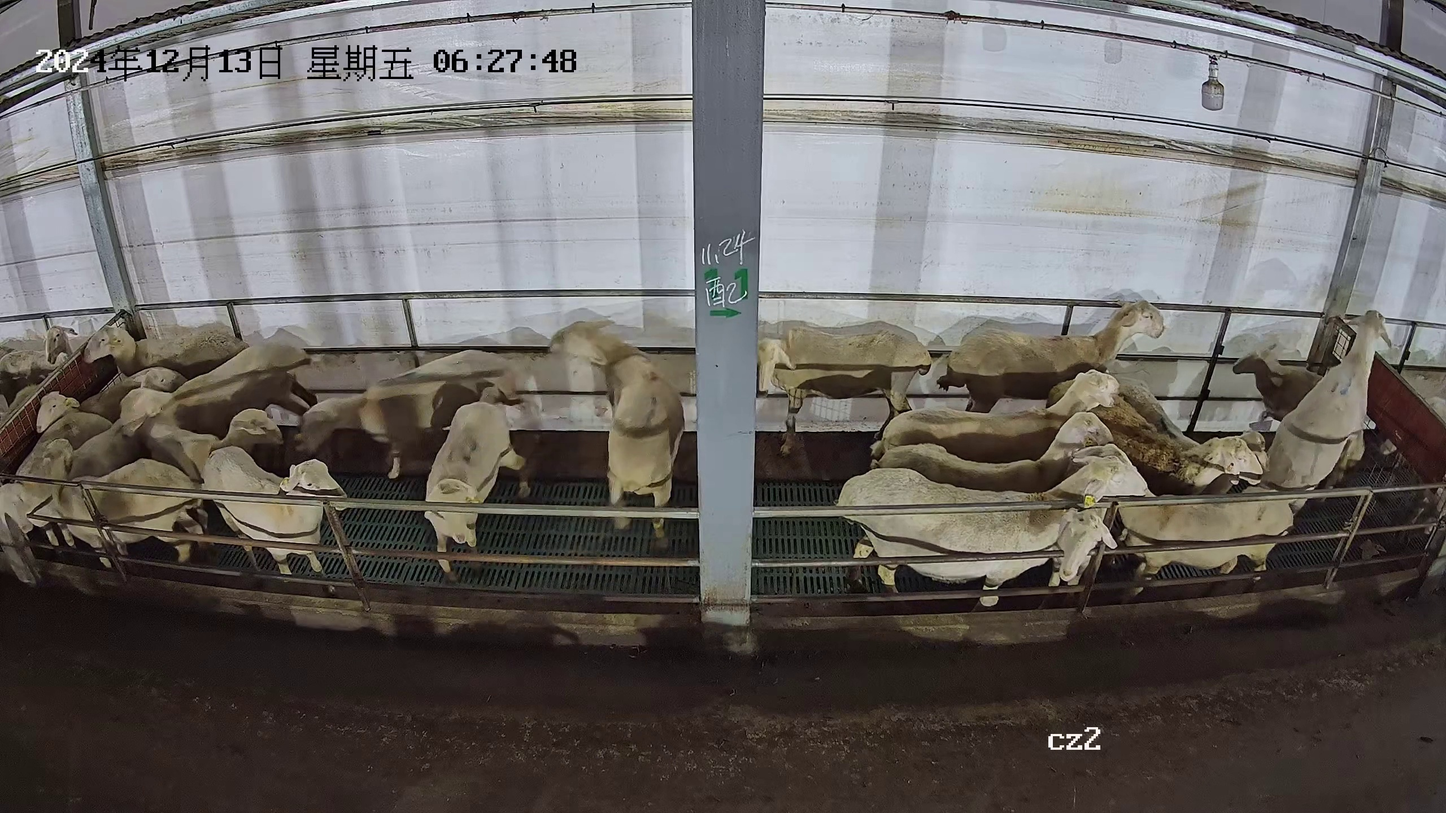Smounting: (1225, 308, 1393, 513)
mounted: (1229, 342, 1366, 474)
